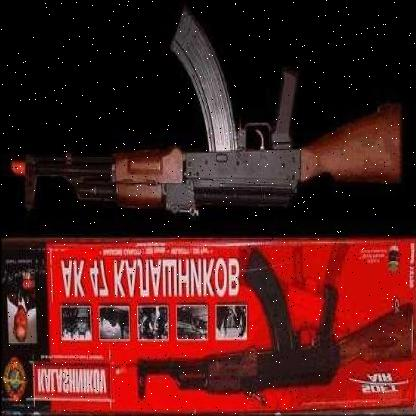rifle: (3, 1, 408, 230)
